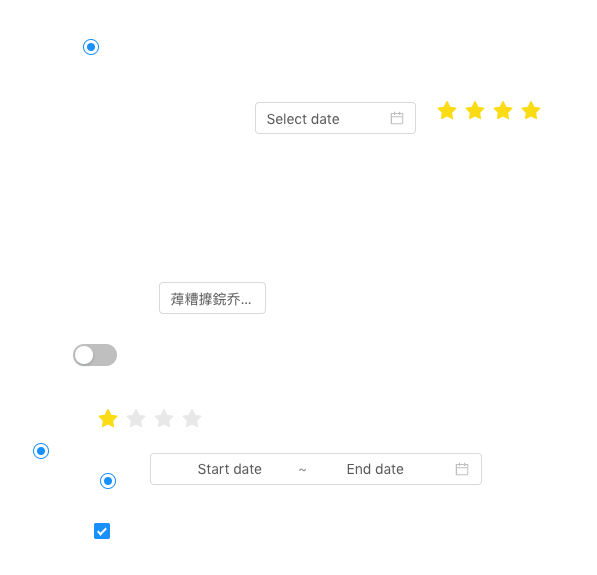Checkbox: (94, 520, 110, 541)
DatePicker: (255, 102, 416, 134)
Input: (159, 282, 266, 314)
Radio: (83, 36, 99, 56), (100, 470, 116, 490), (33, 440, 49, 460)
RangePicker: (150, 453, 540, 485)
Rate: (98, 402, 218, 434), (437, 94, 557, 126)
Switch: (73, 343, 117, 367)
